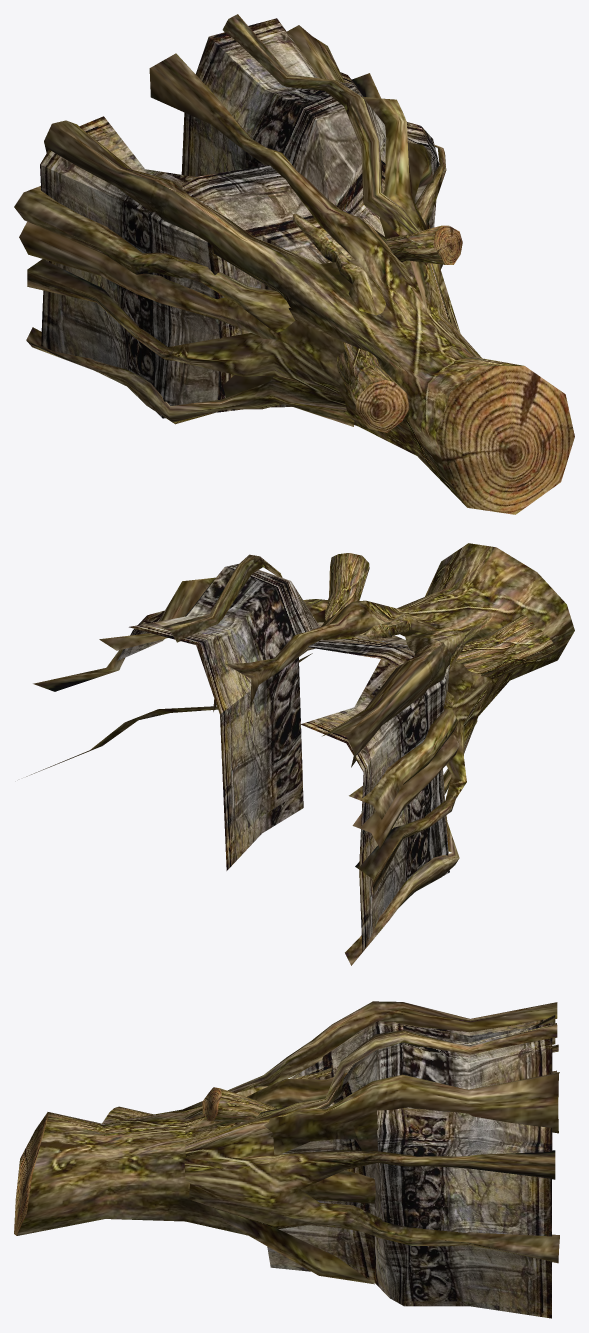
The picture shows the model from 3 angles, top to bottom: view 1: azimuth 30°, elevation 25°; view 2: azimuth 150°, elevation 25°; view 3: azimuth 270°, elevation 25°; orthographic projection. The views are drawn at different scales.
Parts seen in each view (by area): view 1: model_Object12; view 2: model_Object12; view 3: model_Object12.
Part boxes in pixels (x1,y1,x2,y2): model_Object12: (14,14,574,514); model_Object12: (26,543,574,965); model_Object12: (14,1001,559,1318).
Size of the model in its own units: 1.77 by 1.35 by 2.69.
Materials: 3 (3 with a texture image).
